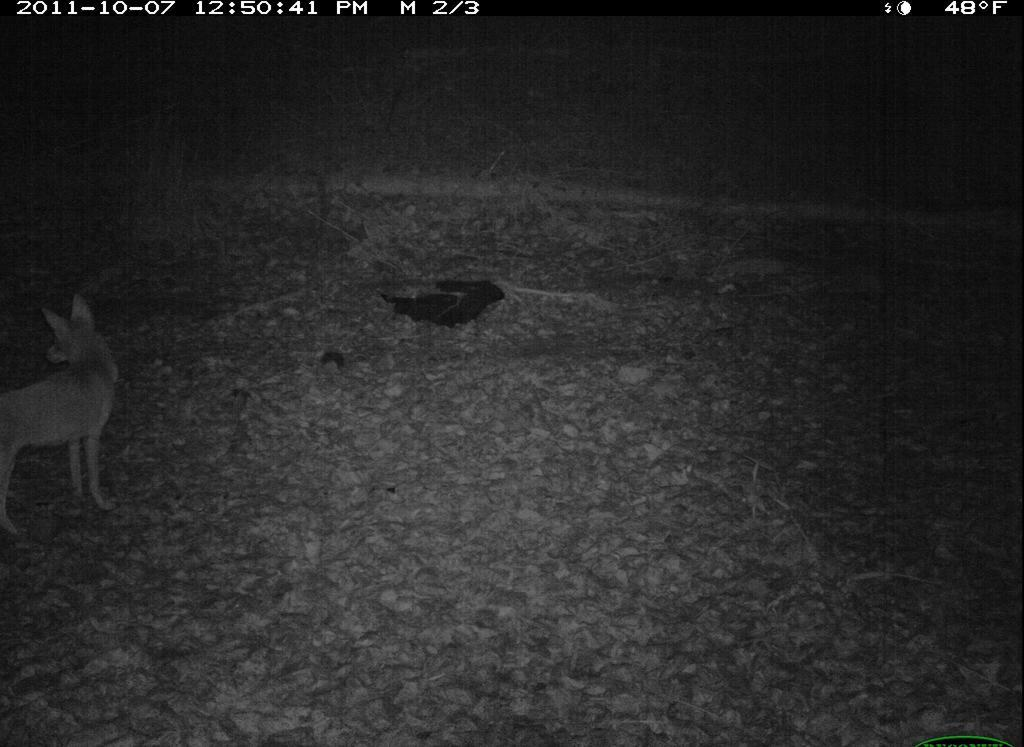coyote: (5, 301, 129, 542)
